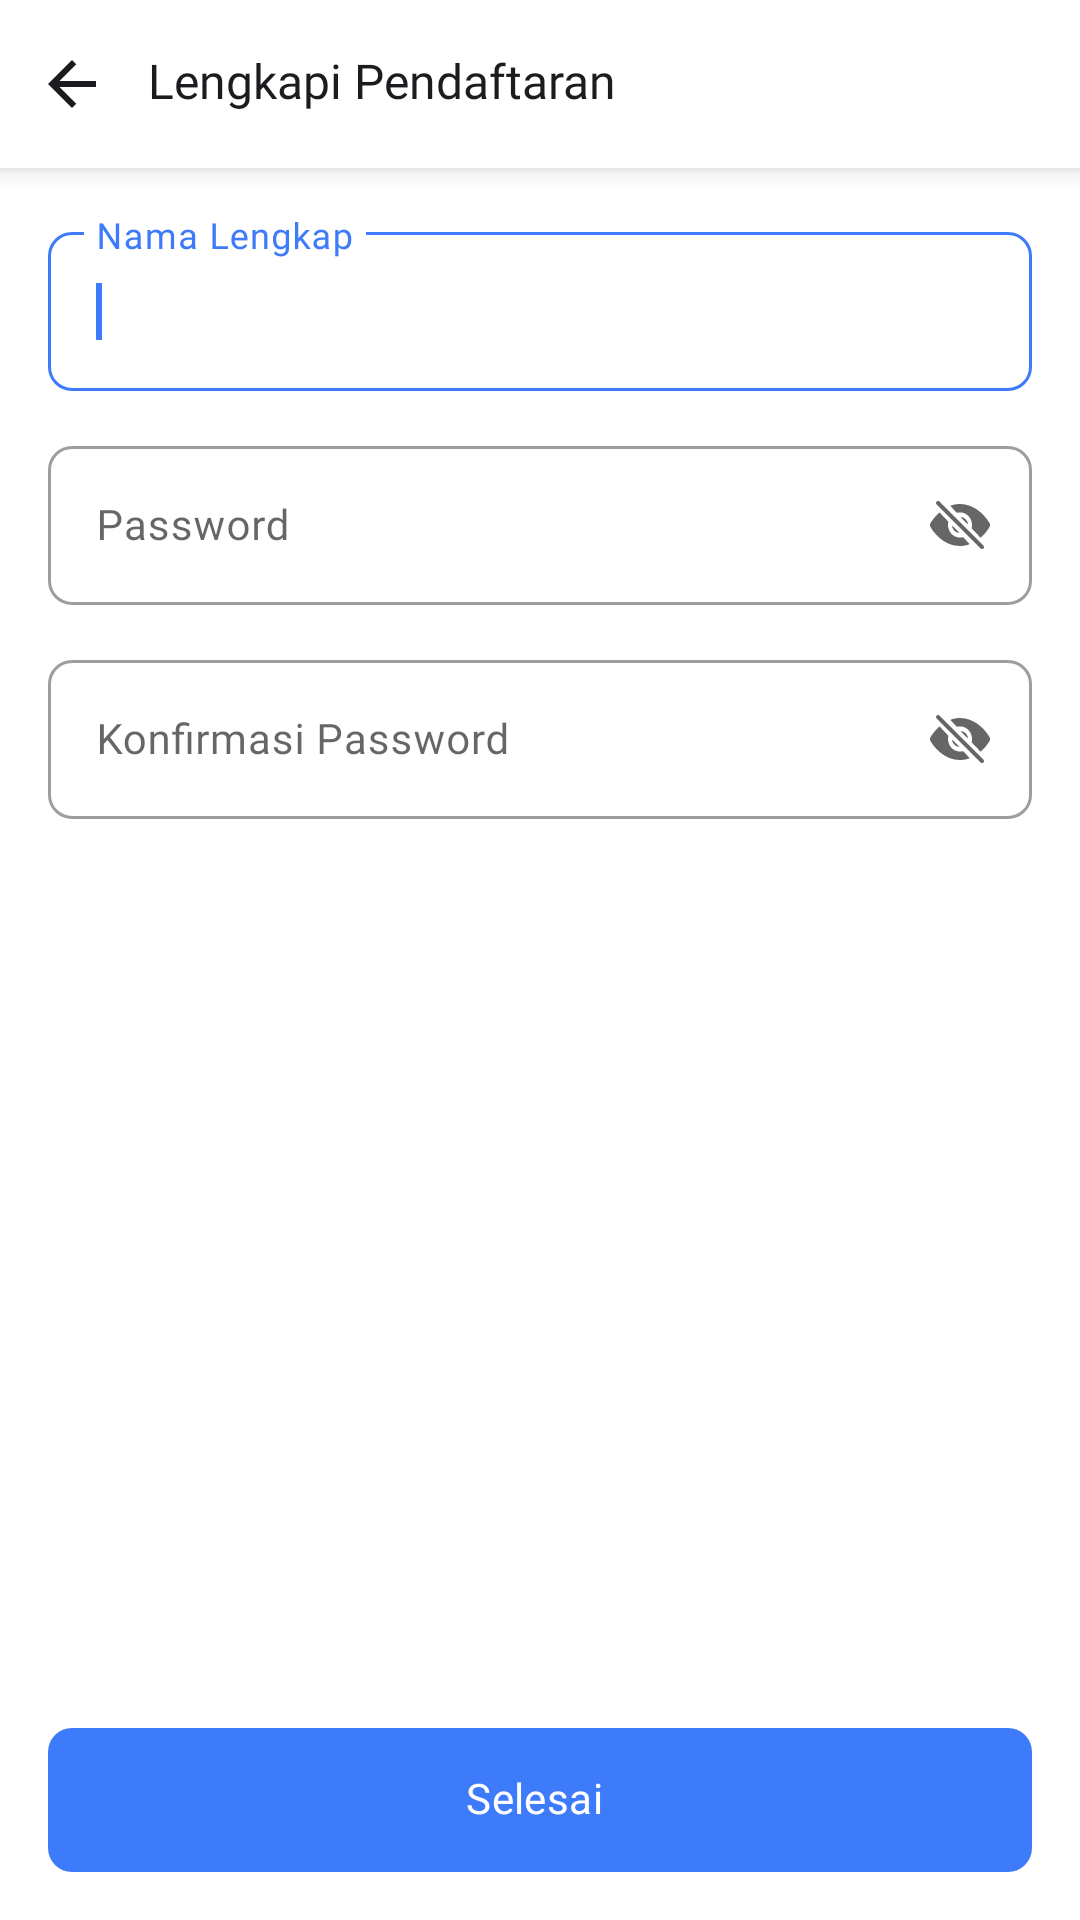

Icons on this 1080px x 1920px Android screen, each with its box as (x1, y1, x2, y2):
all arrow back: (48, 60, 96, 108)
